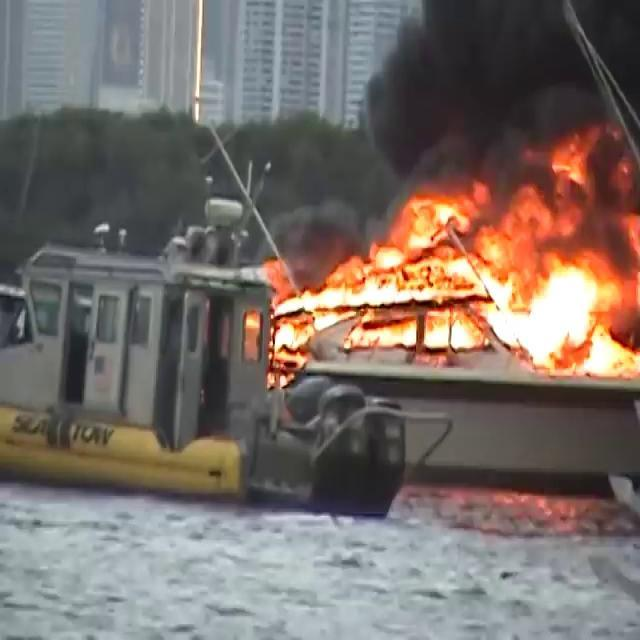Fire: (264, 125, 640, 388)
Smoke: (366, 0, 639, 245)
